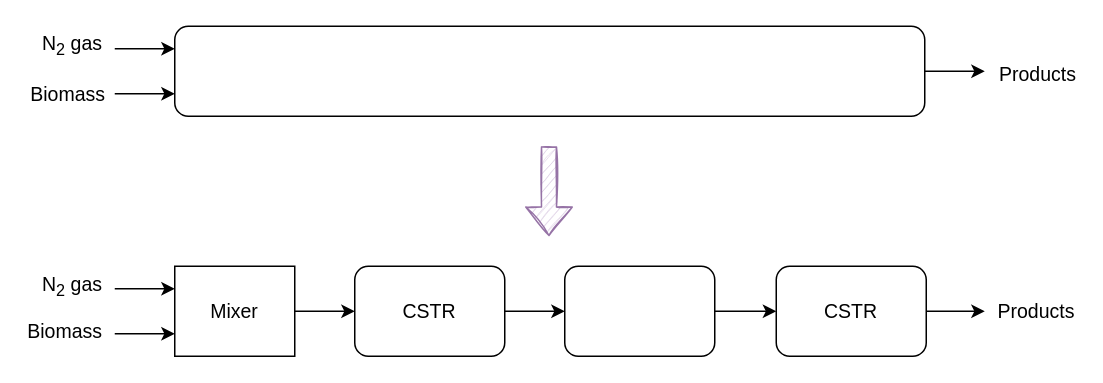
This 1103x383 diagram has some shape labels left out. Each missing label, with the centre of its shape:
CSTR i: the point at 639,310
Plug flow reactor (PFR): the point at 549,70
